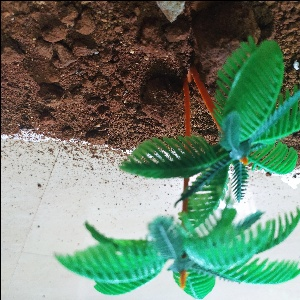plant: (81, 46, 300, 290)
